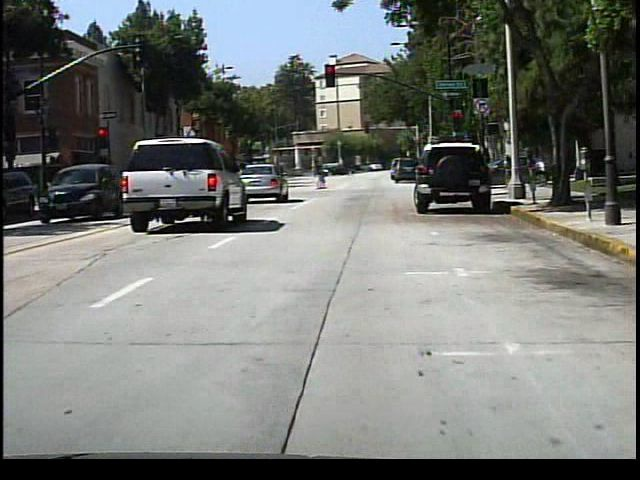person: (554, 139, 575, 188), (312, 158, 330, 193), (459, 152, 476, 185)
